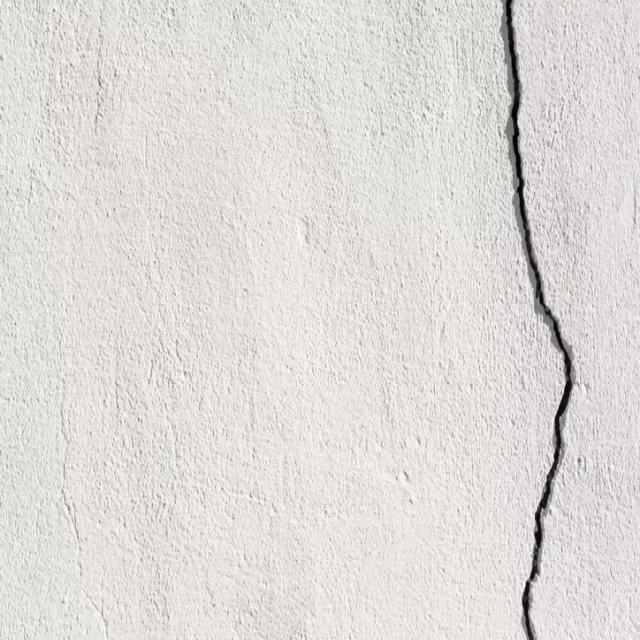Rachadura: (495, 0, 581, 639)
